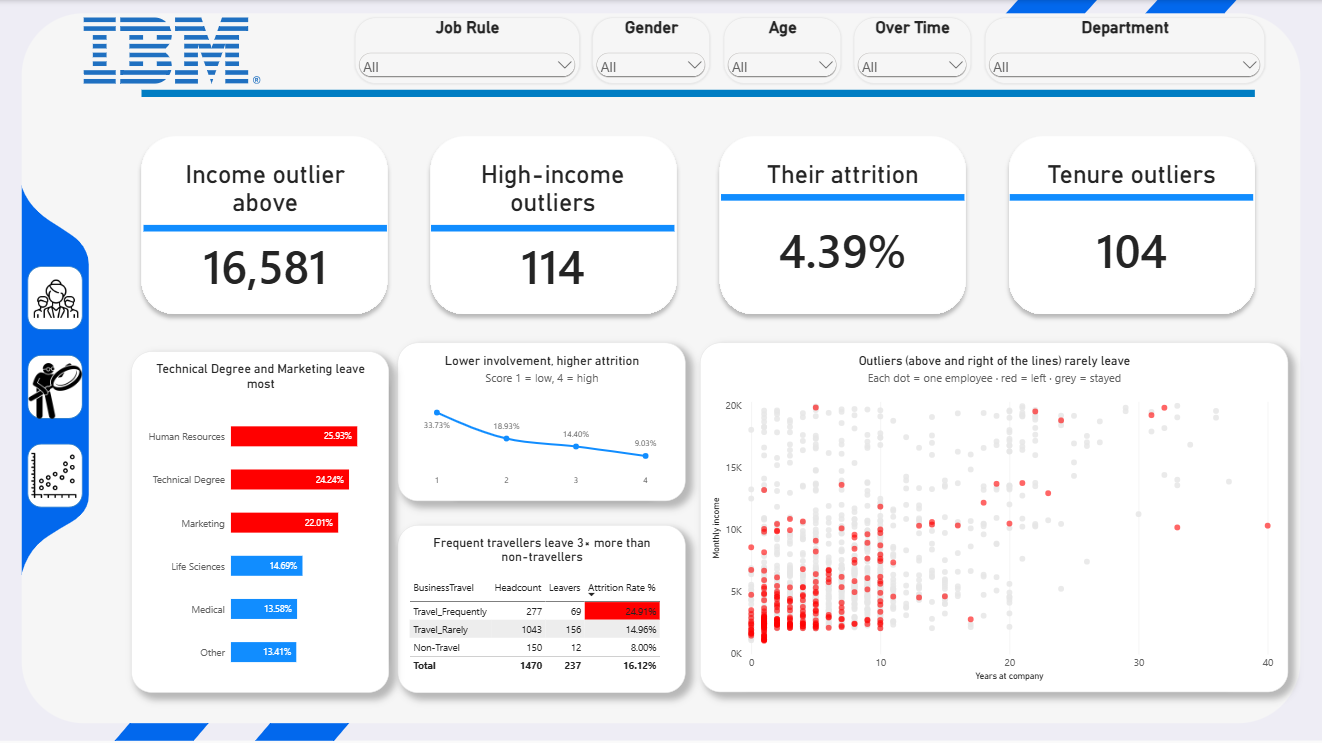

This screenshot's page, from the dashboard's own definition file:
{"tool":"powerbi","page":{"name":"3-Trends & Outliers","canvas":[1920,1080],"ordinal":3},"visuals":[{"type":"card","title":"Income outlier above","fields":{"Values":["_Measures.Income Outlier Threshold"]},"box":[191.9,217.7,385.5,228],"z":0},{"type":"card","title":"High-income outliers","fields":{"Values":["_Measures.Income Outliers Count"]},"box":[610.6,217.7,385.5,228],"z":1000},{"type":"card","title":"Their attrition","fields":{"Values":["_Measures.Income Outliers Attrition %"]},"box":[1031.2,217.7,385.5,228],"z":2000},{"type":"card","title":"Tenure outliers","fields":{"Values":["_Measures.Tenure Outliers Count"]},"box":[1450,217.7,385.5,228],"z":3000},{"type":"lineChart","title":"Lower involvement, higher attrition","fields":{"Category":["fact_employee.JobInvolvement"],"Y":["_Measures.Attrition Rate %"]},"box":[578,498,418,230],"z":4000},{"type":"tableEx","title":"Frequent travellers leave 3× more than non-travellers","fields":{"Values":["dim_travel.BusinessTravel","_Measures.Headcount","_Measures.Leavers","_Measures.Attrition Rate %"]},"box":[578,762,418,244],"z":5000},{"type":"scatterChart","title":"Outliers (above and right of the lines) rarely leave","fields":{"Category":["fact_employee.EmployeeNumber"],"Series":["fact_employee.AttritionFlag"],"X":["fact_employee.YearsAtCompany"],"Y":["fact_employee.MonthlyIncome"]},"box":[1016,498,854,508],"z":6000},{"type":"slicer","title":"Department","fields":{"Values":["dim_department.Department"]},"box":[1430,26,406,96],"z":7000},{"type":"slicer","title":"Over Time","fields":{"Values":["dim_overtime.OverTime"]},"box":[1240.5,26,170,96],"z":8000},{"type":"slicer","title":"Age","fields":{"Values":["fact_employee.Age Band"]},"box":[1051,26,170,96],"z":9000},{"type":"slicer","title":"Job Rule","fields":{"Values":["dim_job_role.JobRole"]},"box":[516,26,326,96],"z":10000},{"type":"slicer","title":"Gender","fields":{"Values":["dim_gender.Gender"]},"box":[861.5,26,170,96],"z":11000},{"type":"image","box":[0,26,500,96],"z":12000},{"type":"clusteredBarChart","title":"Technical Degree and Marketing leave most","fields":{"Category":["dim_education_field.EducationField"],"Y":["_Measures.Attrition Rate %"]},"box":[191.4,510,374.3,495.7],"z":13000},{"type":"shape","box":[40,644,80,92.5],"z":13001},{"type":"shape","box":[40,387.3,80,92.5],"z":13002},{"type":"image","box":[48.2,393.6,64.5,80],"z":13003},{"type":"image","box":[46,648,65.5,84.5],"z":13004},{"type":"shape","box":[40,516,80,92.5],"z":13005},{"type":"image","box":[40,526,80.9,81.8],"z":13006}]}

Visuals, with their boxes in screenshot pixels (x1, y1, x2, y2), scaled from the page's 1920x1080 canvas onto the 1322x743 screenshot:
"Income outlier above" card: bbox(132, 150, 398, 307)
"High-income outliers" card: bbox(420, 150, 686, 307)
"Their attrition" card: bbox(710, 150, 975, 307)
"Tenure outliers" card: bbox(998, 150, 1264, 307)
"Lower involvement, higher attrition" lineChart: bbox(398, 343, 686, 501)
"Frequent travellers leave 3× more than non-travellers" tableEx: bbox(398, 524, 686, 692)
"Outliers (above and right of the lines) rarely leave" scatterChart: bbox(700, 343, 1288, 692)
"Department" slicer: bbox(985, 18, 1264, 84)
"Over Time" slicer: bbox(854, 18, 971, 84)
"Age" slicer: bbox(724, 18, 841, 84)
"Job Rule" slicer: bbox(355, 18, 580, 84)
"Gender" slicer: bbox(593, 18, 710, 84)
image: bbox(0, 18, 344, 84)
"Technical Degree and Marketing leave most" clusteredBarChart: bbox(132, 351, 390, 692)
shape: bbox(28, 443, 83, 507)
shape: bbox(28, 266, 83, 330)
image: bbox(33, 271, 78, 326)
image: bbox(32, 446, 77, 504)
shape: bbox(28, 355, 83, 419)
image: bbox(28, 362, 83, 418)
